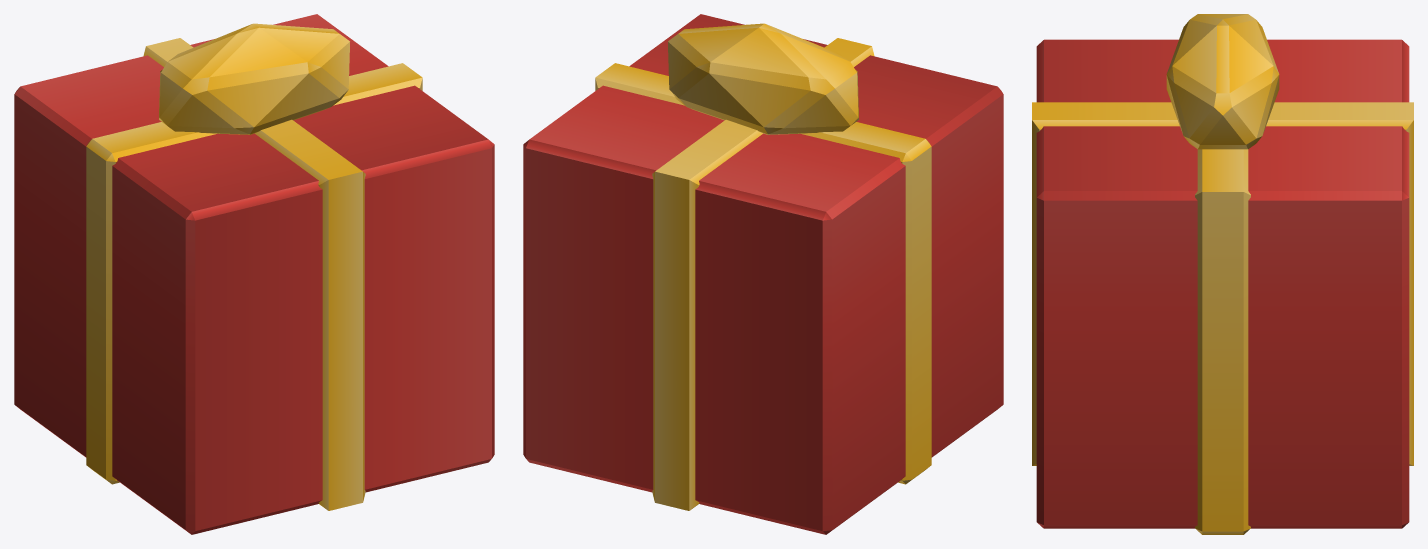
The model's file is dt_gift_box.fbx.
3 views of the same model, side by side, from view 1: azimuth 30°, elevation 25°; view 2: azimuth 150°, elevation 25°; view 3: azimuth 270°, elevation 25° (orthographic). The views are drawn at different scales.
Visible parts, largest first — view 1: dt_gift_box; view 2: dt_gift_box; view 3: dt_gift_box.
Part boxes in pixels (x1,y1,x2,y2): dt_gift_box: (14,14,494,534); dt_gift_box: (523,14,1003,534); dt_gift_box: (1032,14,1413,534).
Bounding box in the file's own units: 160 × 200 × 160.
